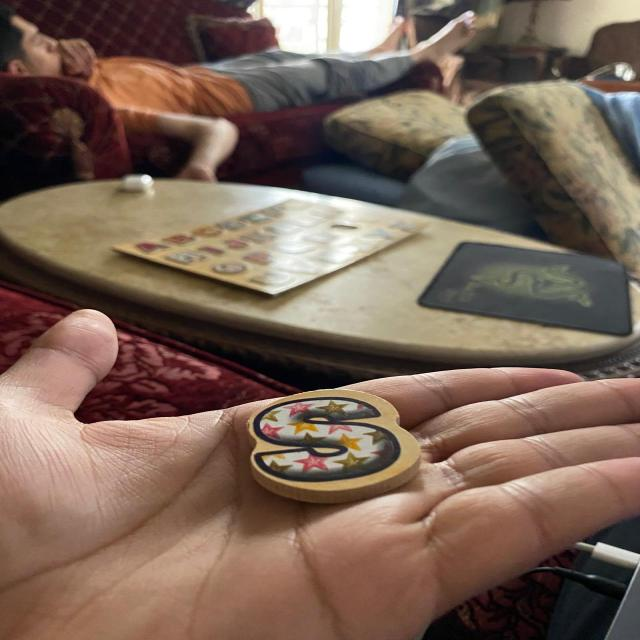S: (249, 391, 417, 501)
